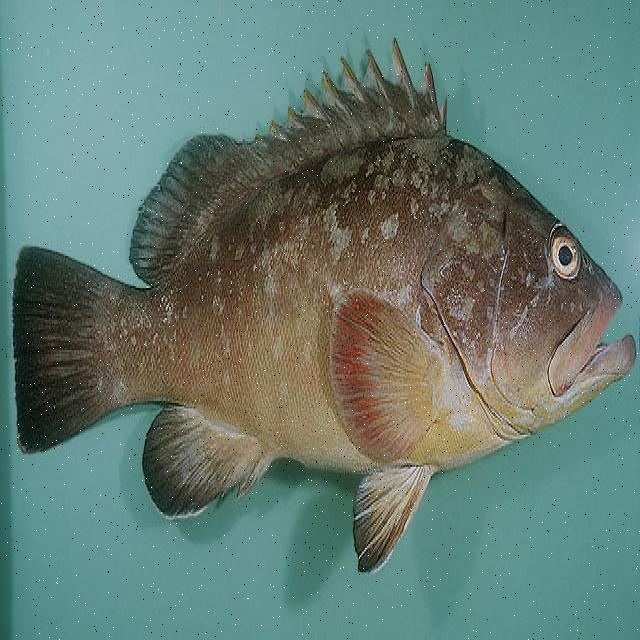ikan: (12, 34, 637, 576)
